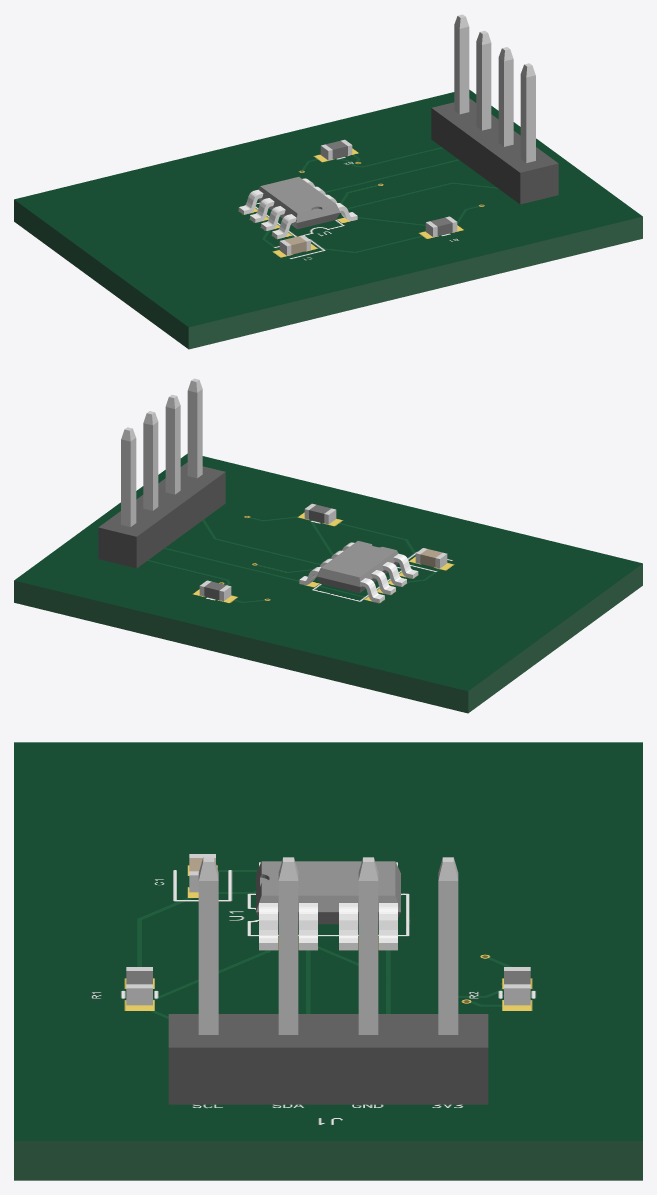
The picture shows the model from 3 angles, top to bottom: view 1: azimuth 30°, elevation 25°; view 2: azimuth 150°, elevation 25°; view 3: azimuth 270°, elevation 25°; orthographic projection. The views are drawn at different scales.
Parts seen in each view (by area): view 1: Box0, J1, U1, R2, R1, C1; view 2: Box0, J1, U1, R1, C1, R2; view 3: Box0, J1, U1, R1, R2.
Part boxes in pixels (bbox=[...]): Box0: bbox=[14, 89, 642, 349]; J1: bbox=[431, 14, 558, 204]; U1: bbox=[238, 177, 357, 238]; R2: bbox=[320, 139, 352, 160]; R1: bbox=[425, 216, 457, 237]; C1: bbox=[279, 235, 310, 255]; Box0: bbox=[14, 453, 642, 713]; J1: bbox=[98, 378, 225, 568]; U1: bbox=[299, 541, 418, 602]; R1: bbox=[304, 503, 336, 524]; C1: bbox=[415, 548, 447, 568]; R2: bbox=[199, 580, 231, 601]; Box0: bbox=[14, 742, 642, 1180]; J1: bbox=[168, 857, 488, 1104]; U1: bbox=[256, 861, 400, 950]; R1: bbox=[126, 967, 152, 1005]; R2: bbox=[504, 967, 530, 1005].
Bounding box in the file's own units: 30 × 10.5 × 20.
Materials: 10 (2 with a texture image).
